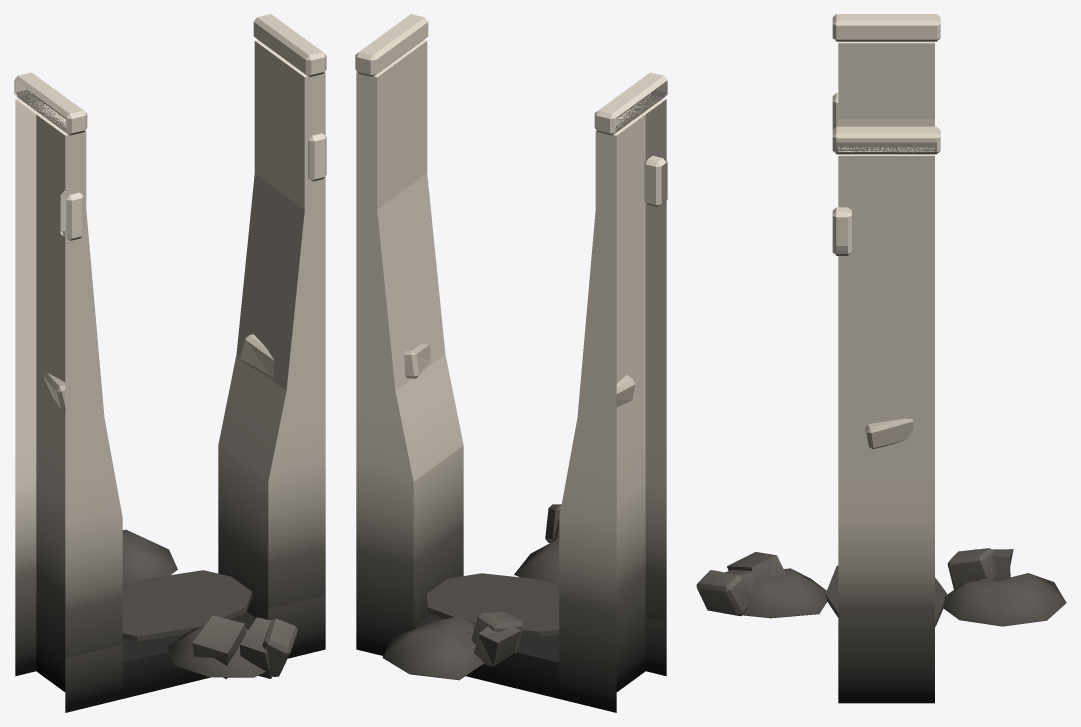
Rendered from SM_VKI_Wall_Ancient_Breach_150_Full.fbx.
The picture shows the model from 3 angles, left to right: view 1: azimuth 30°, elevation 25°; view 2: azimuth 150°, elevation 25°; view 3: azimuth 270°, elevation 25°; orthographic projection. The views are drawn at different scales.
Visible parts, largest first — view 1: SM_VKI_Wall_Ancient_Breach_150_Full.001; view 2: SM_VKI_Wall_Ancient_Breach_150_Full.001; view 3: SM_VKI_Wall_Ancient_Breach_150_Full.001.
Boxes of the visible parts, x1,y1,x2,y2 form: SM_VKI_Wall_Ancient_Breach_150_Full.001: [14, 14, 326, 712]; SM_VKI_Wall_Ancient_Breach_150_Full.001: [355, 14, 667, 712]; SM_VKI_Wall_Ancient_Breach_150_Full.001: [696, 14, 1066, 703].
Bounding box in the file's own units: 1.5 × 3.3 × 1.91.
